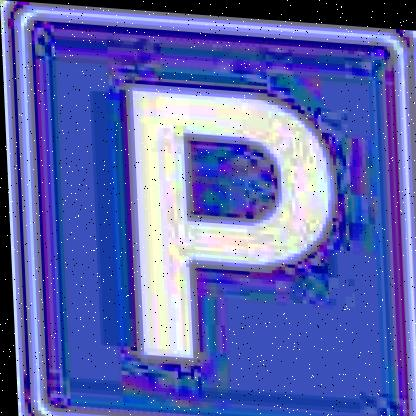Parking: (20, 9, 416, 416)
